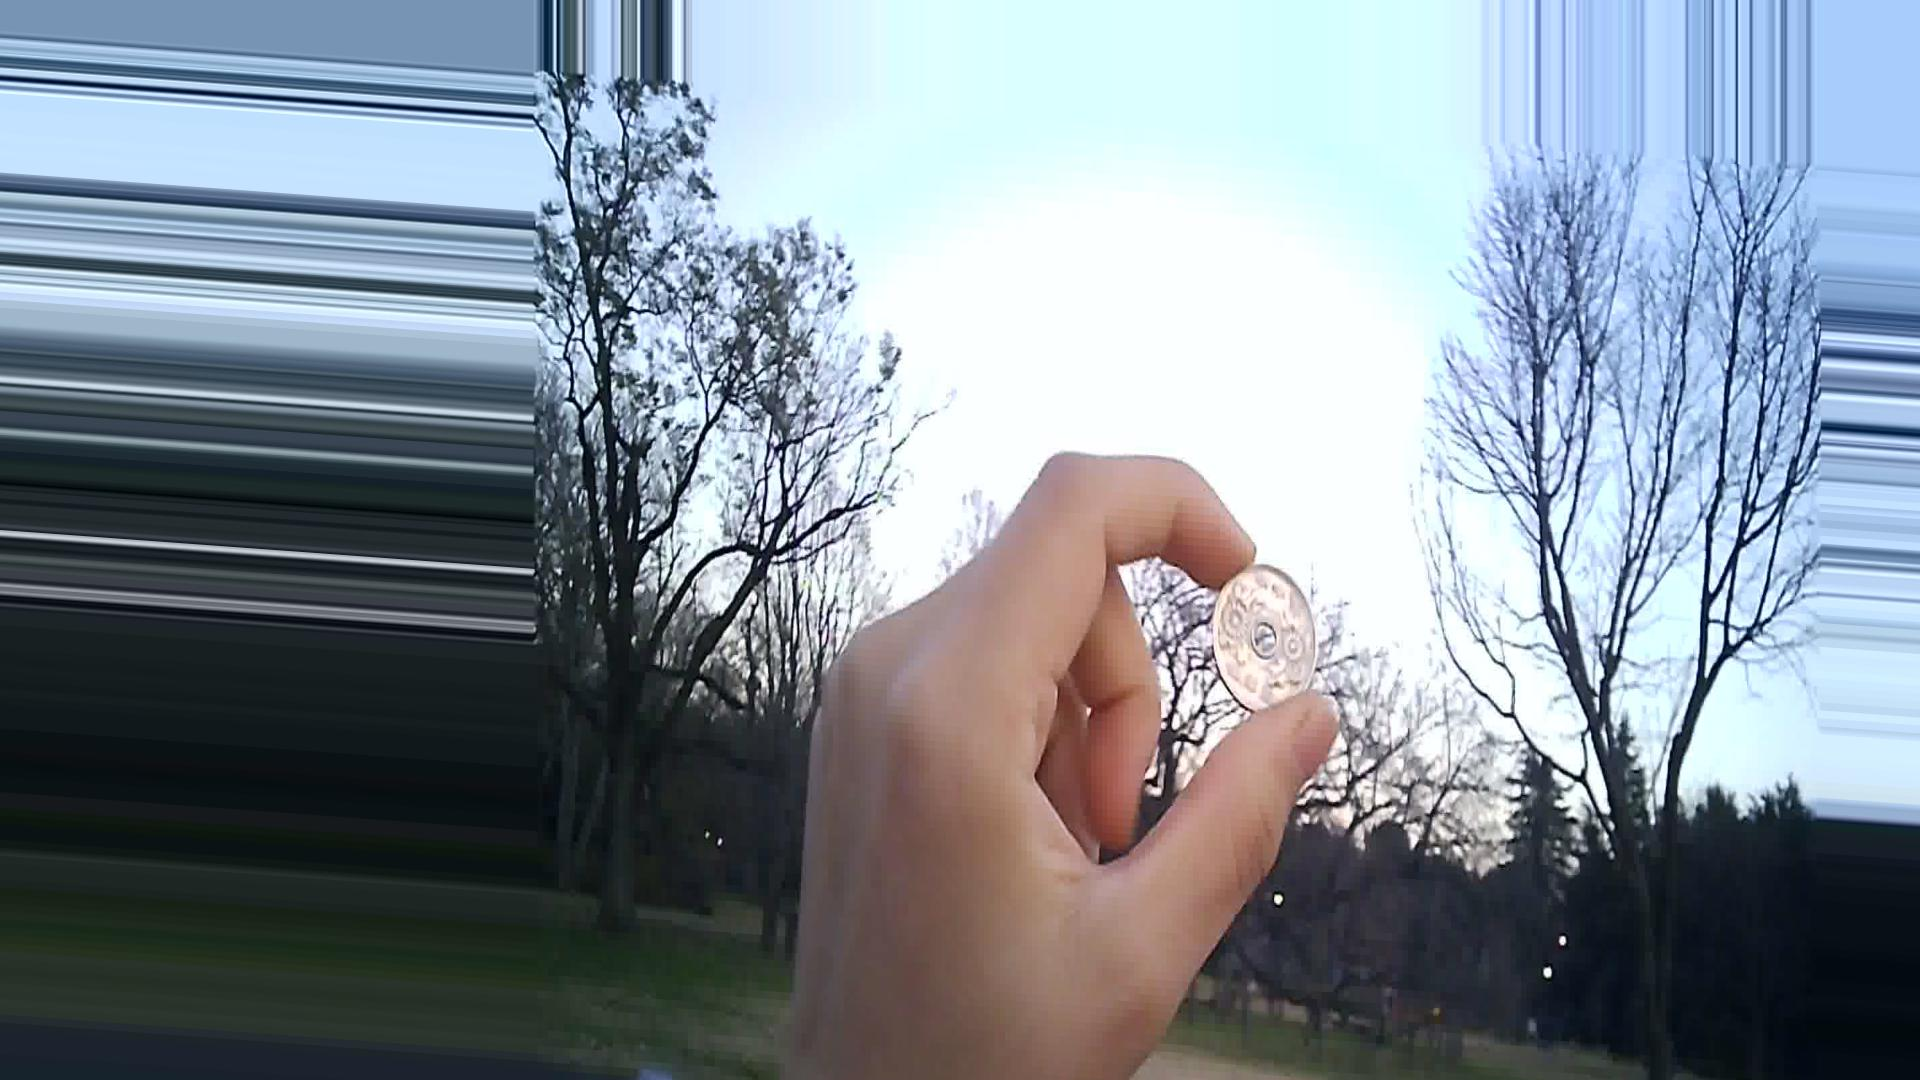50 Yen: (1201, 558, 1335, 713)
